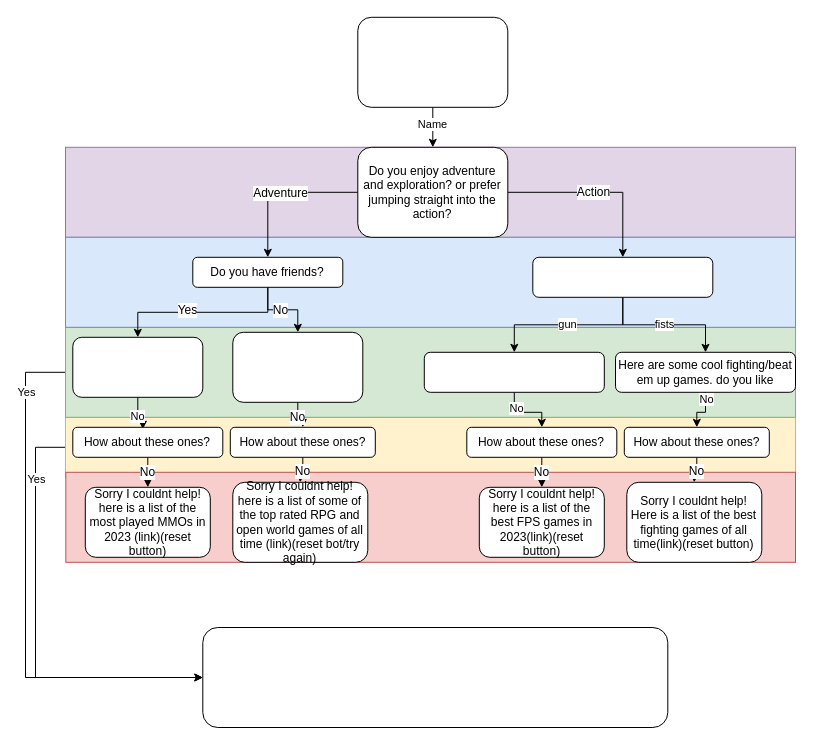
Some shapes in this 813 by 746 pixel diagram are drawn without their labels. Each missing label, with the centre of its shape:
Here are some cool FPS games. do you like: point 513,371
Here are some suggestions for some online MMO games. do you like them?: point 137,366
Hi there! What is your name?: point 432,61
I'll be your friend, (name)! here are some Open world and RPG games. like them?: point 297,366
Im glad I could help! Enjoy :) (reset bot/try again button): point 435,677
Would you rather punish your enemies with your fists, or a big gun?: point 622,276
